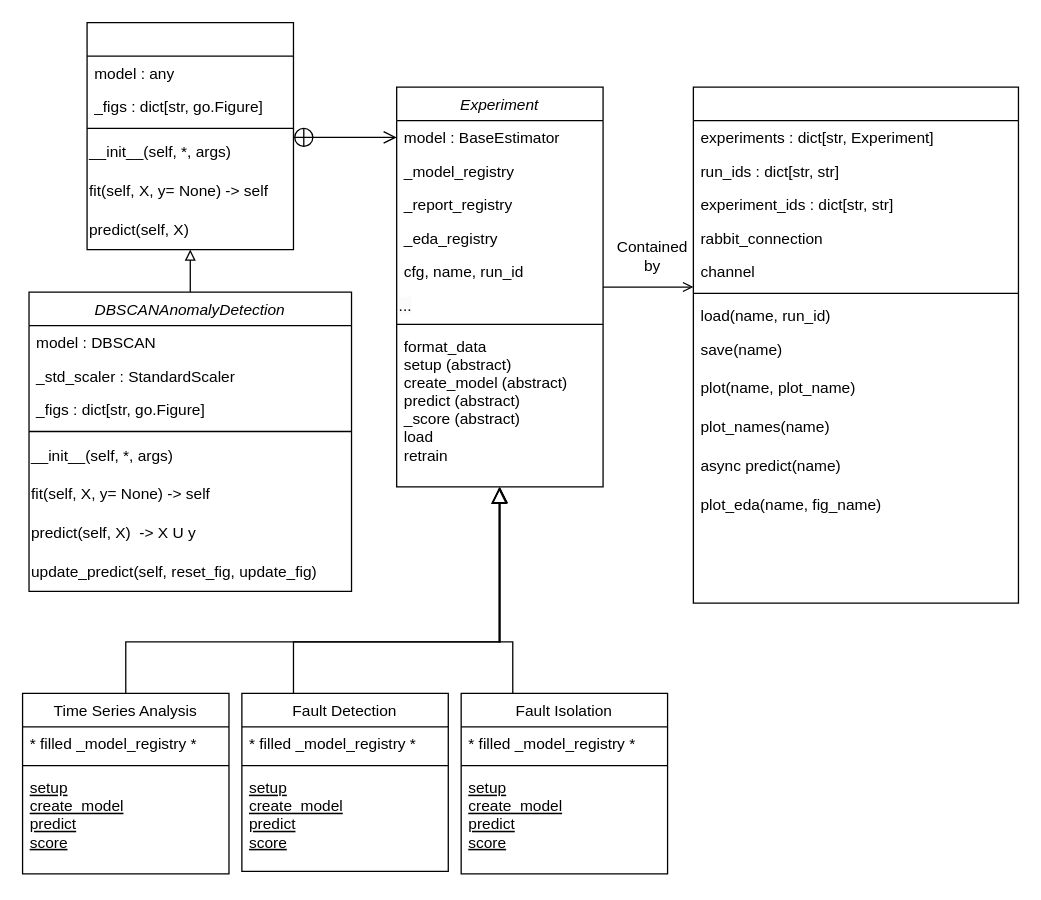
This 1041x900 diagram has some shape labels left out. The box of each missing label's shape, as (x1, y1, x2, y2) in pixels:
BaseEstimator: (86, 21, 293, 250)
Experiment Hub: (692, 86, 1018, 603)
